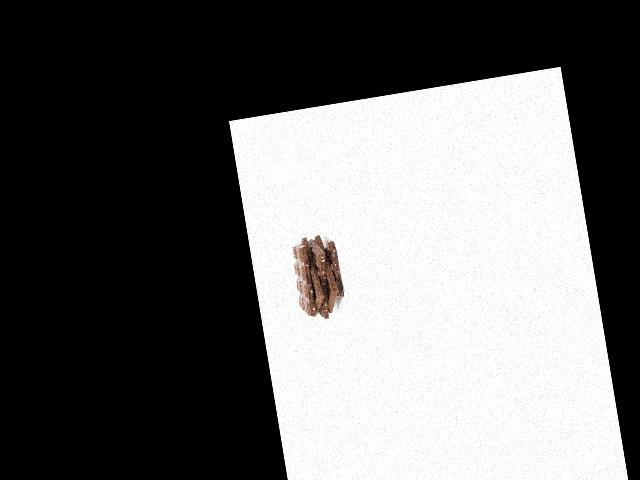chocolate: (307, 233, 350, 314)
